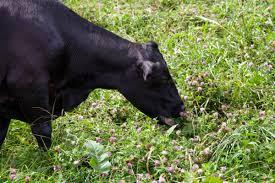cow: (0, 0, 186, 154)
